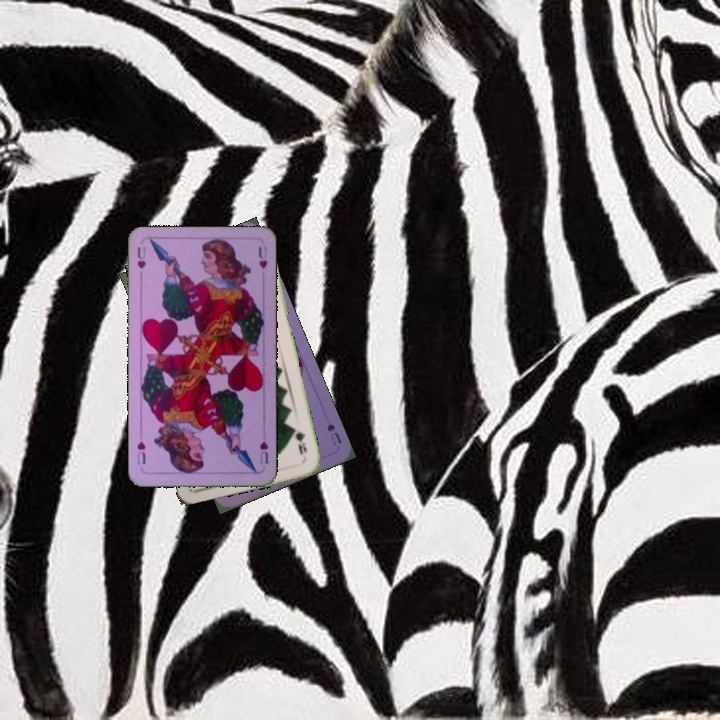G9: (289, 424, 309, 458)
HU: (133, 243, 148, 282), (256, 438, 270, 466)
SU: (323, 419, 344, 449)
